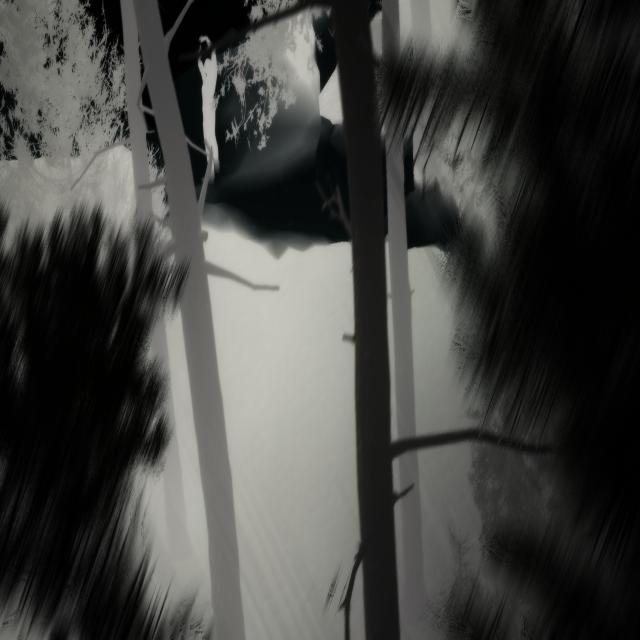Human: (192, 28, 221, 215)
